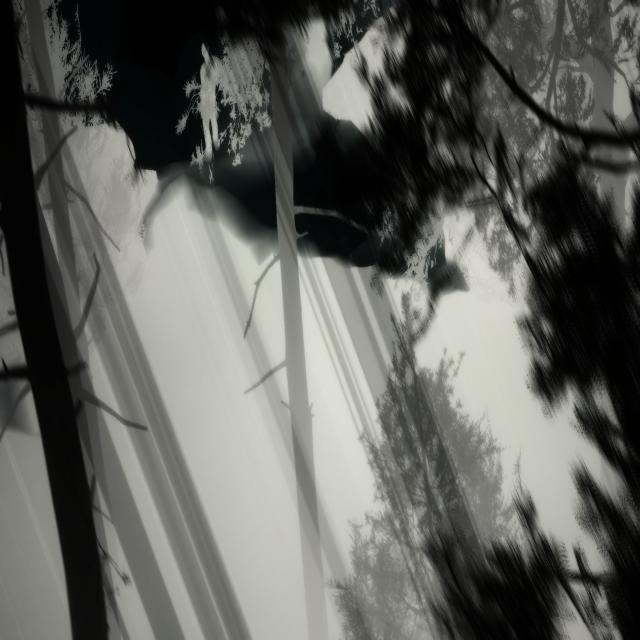Human: (193, 39, 224, 164)
